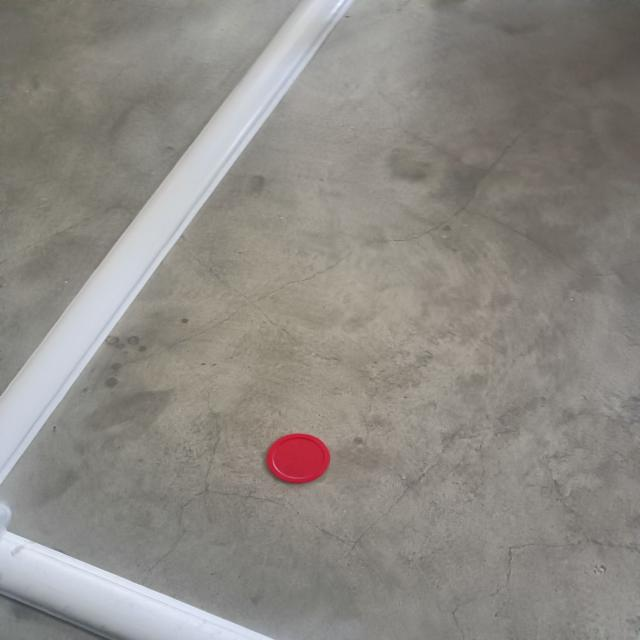chip: (264, 432, 334, 485)
